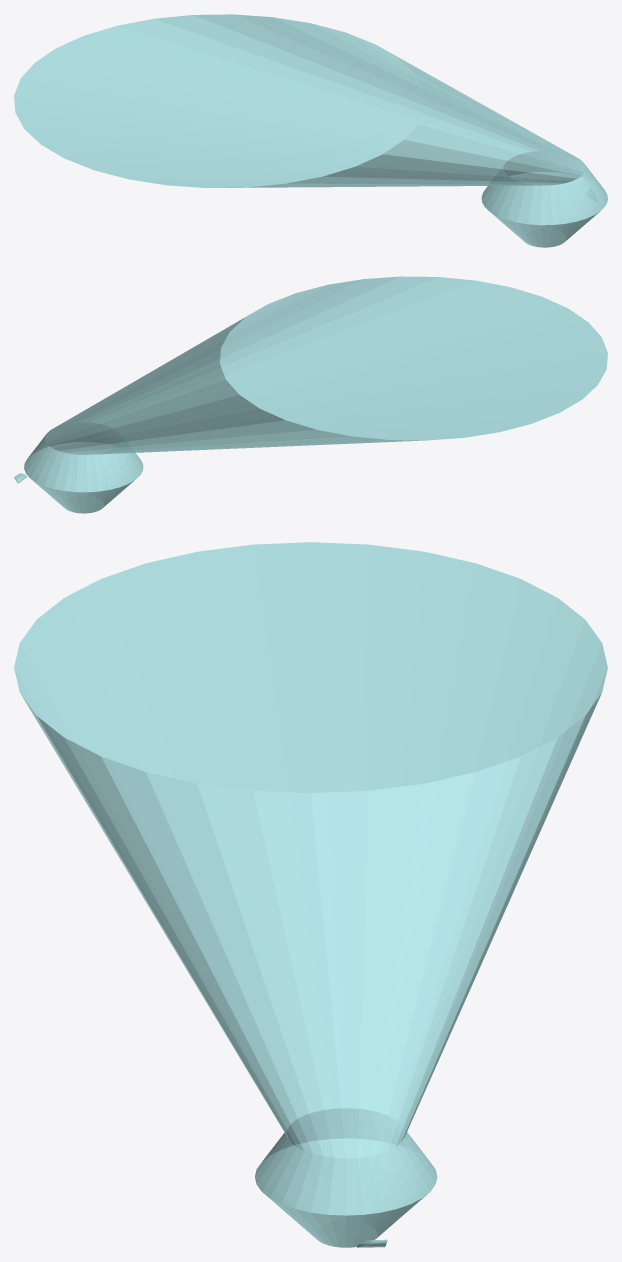
3 renders of one model, top to bottom at view 1: azimuth 30°, elevation 25°; view 2: azimuth 150°, elevation 25°; view 3: azimuth 270°, elevation 25°, orthographic. The views are drawn at different scales.
Visible parts, largest first — view 1: sideR_glass.004; view 2: sideR_glass.004; view 3: sideR_glass.004.
Part boxes in pixels (bbox=[...]): sideR_glass.004: bbox=[14, 14, 607, 247]; sideR_glass.004: bbox=[14, 276, 607, 513]; sideR_glass.004: bbox=[14, 542, 607, 1247].
Bounding box in the file's own units: 3025 × 1147 × 1876.
